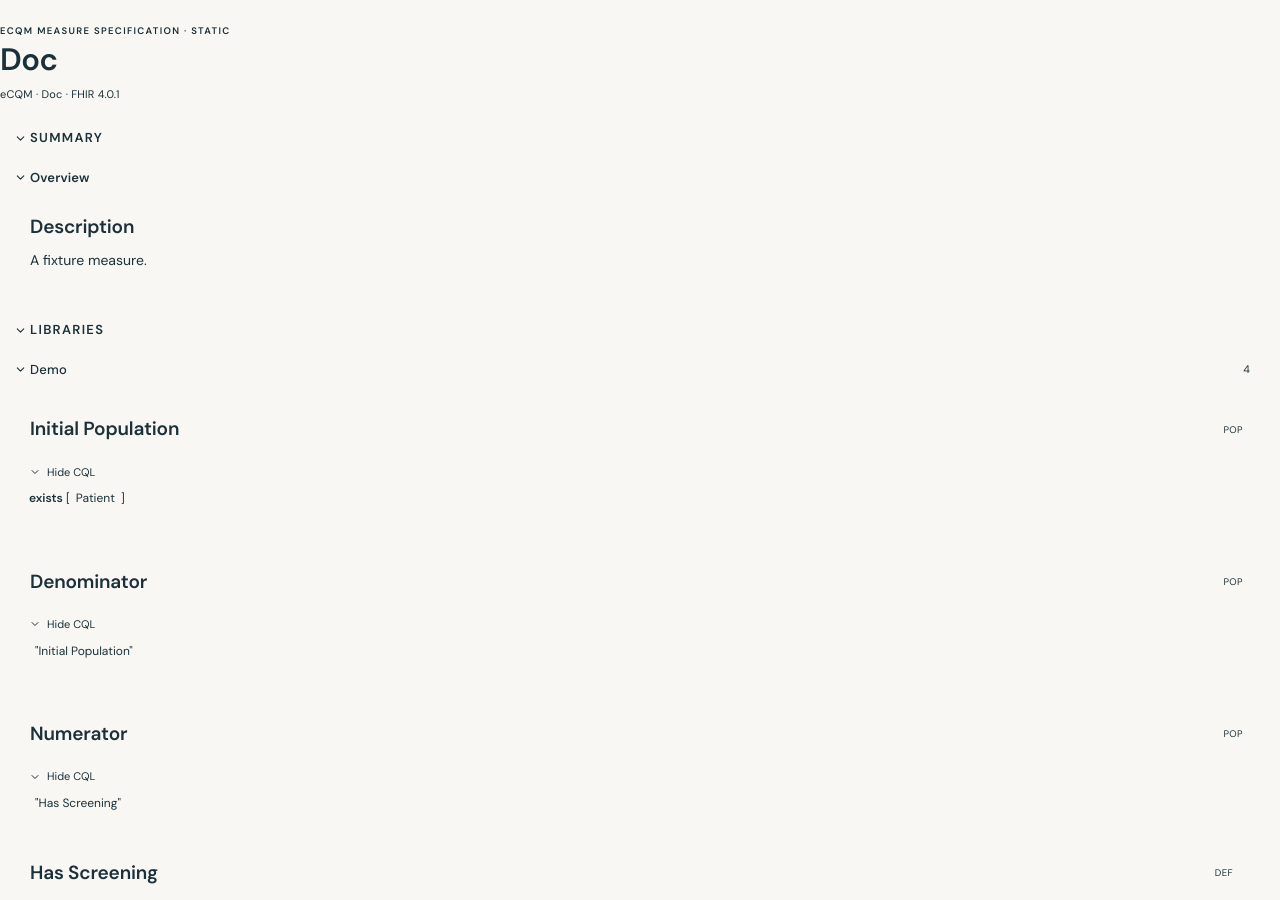
Test: MeasureNarrative — selecting a read (SPEC-NAV-COMPOSITION) › opens the lens OUTSIDE the reading column, where nothing can clip it (SPEC-REF-LENS)
What coordinates should you click on to do the following:
click the 1st button with class "mw-cqlblock-toggle"
I would click on:
 (71, 472)
Its box is [29,456,1251,488].
(page scrolled)
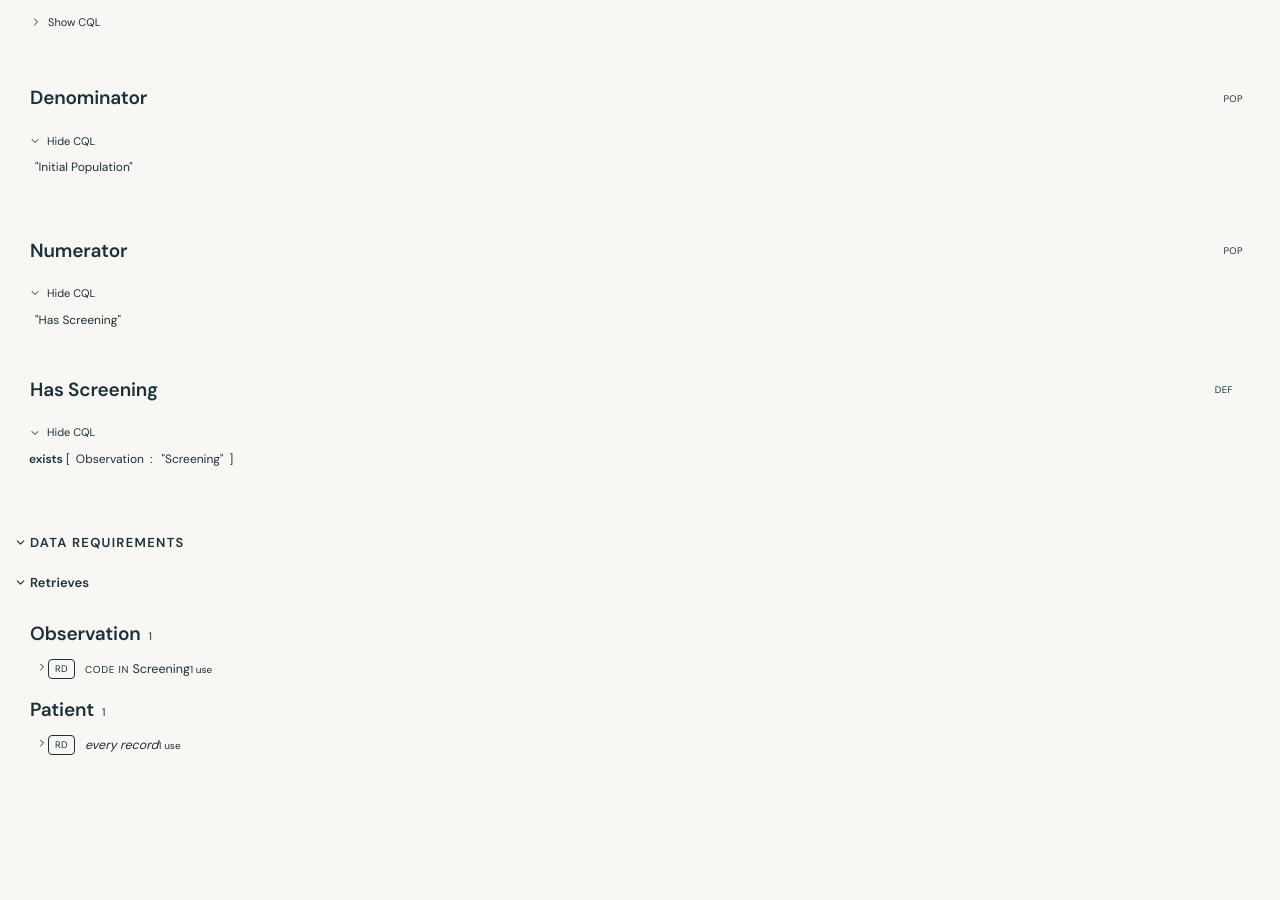
What coordinates should you click on to do the following:
click the button with class "cql-link" showing "Observation"
I would click on:
 (110, 460)
Its box is [70,449,150,470].
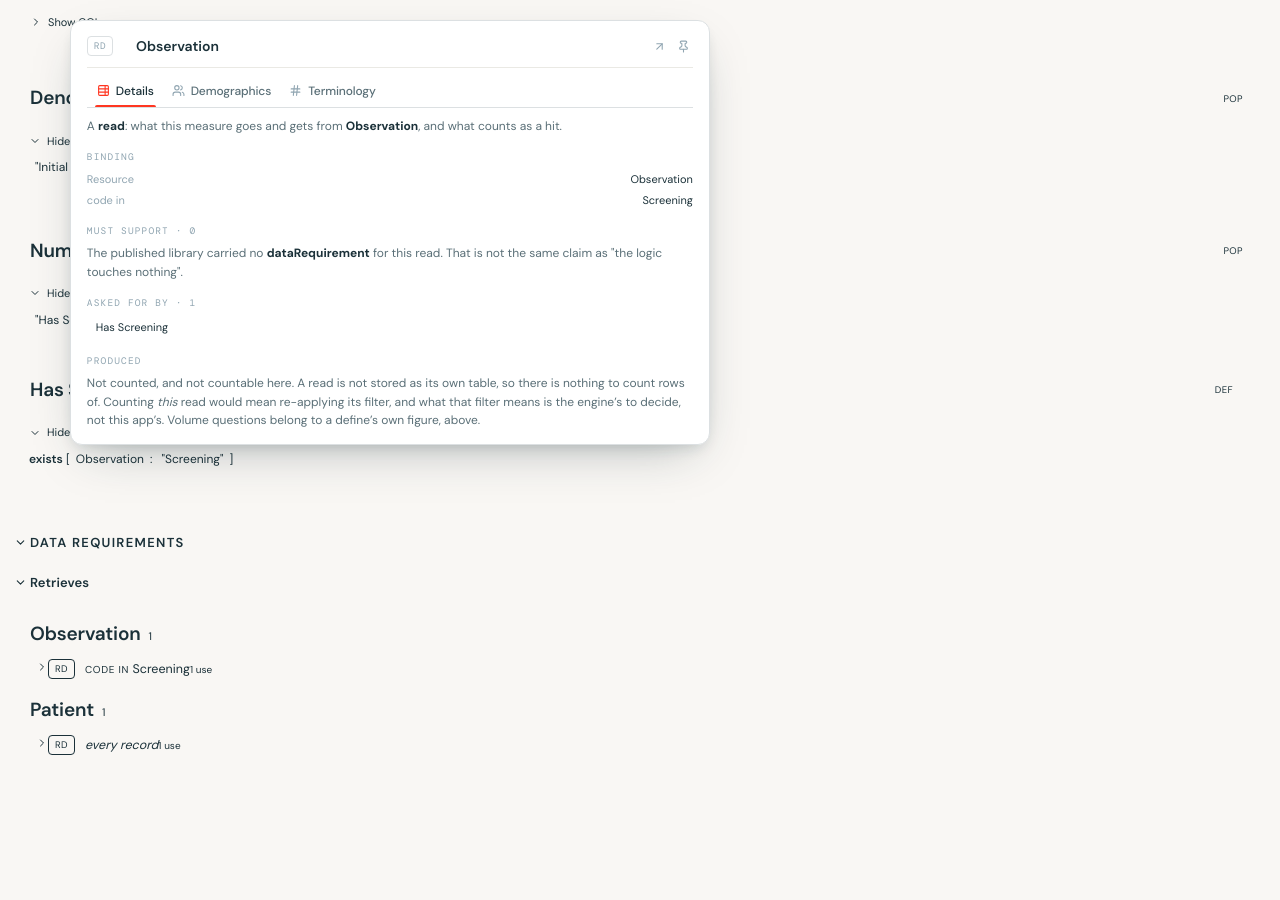
Check: the dialog with class "mw-reflens" is shown, box [70,20,710,445]
